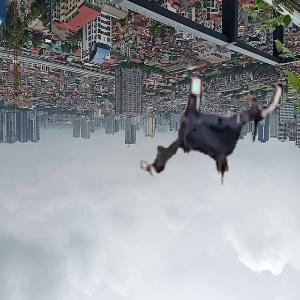drone: (133, 51, 292, 210)
